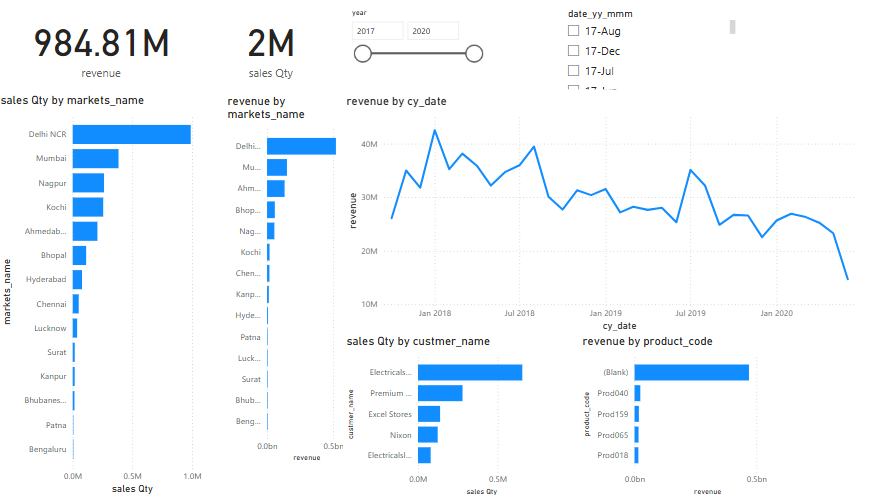

Layout of this report page (visuals, bound fields, positions):
{"tool":"powerbi","page":{"name":"Page 1","canvas":[1280,720],"ordinal":0},"visuals":[{"type":"card","fields":{"Values":["BaseMeasure (2).revenue"]},"box":[0,0,300,137.1],"z":0},{"type":"barChart","fields":{"Category":["sales markets.markets_name"],"Y":["BaseMeasure (2).sales Qty"]},"box":[0,137.1,300,582.9],"z":1000},{"type":"card","fields":{"Values":["BaseMeasure (2).sales Qty"]},"box":[262.9,0,261.4,137.1],"z":2000},{"type":"slicer","fields":{"Values":["sales date.date_yy_mmm"]},"box":[809.3,8.6,259.2,128.2],"z":3000},{"type":"barChart","fields":{"Category":["sales markets.markets_name"],"Y":["BaseMeasure (2).revenue"]},"box":[327.6,137.7,196.5,534.2],"z":4000},{"type":"slicer","fields":{"Values":["sales date.year"]},"box":[498.9,10.1,210,141.1],"z":5000},{"type":"barChart","fields":{"Category":["sales customers.custmer_name"],"Y":["BaseMeasure (2).sales Qty"]},"box":[498.9,483.8,310.8,236.9],"z":6000},{"type":"barChart","fields":{"Category":["sales products.product_code"],"Y":["BaseMeasure (2).revenue"]},"box":[838.2,483.8,310.8,236.9],"z":7000},{"type":"lineChart","fields":{"Y":["BaseMeasure (2).revenue"],"Category":["sales date.cy_date"]},"box":[498.9,137.7,755.9,346],"z":8000}]}

Visuals, with their boxes in screenshot pixels (x1, y1, x2, y2), scaled from the page's 1280x720 canvas onto the 880x498 screenshot:
card - BaseMeasure (2).revenue: [0, 0, 206, 95]
barChart - sales markets.markets_name x BaseMeasure (2).sales Qty: [0, 95, 206, 497]
card - BaseMeasure (2).sales Qty: [181, 0, 360, 95]
slicer - sales date.date_yy_mmm: [556, 6, 735, 95]
barChart - sales markets.markets_name x BaseMeasure (2).revenue: [225, 95, 360, 465]
slicer - sales date.year: [343, 7, 487, 105]
barChart - sales customers.custmer_name x BaseMeasure (2).sales Qty: [343, 335, 557, 497]
barChart - sales products.product_code x BaseMeasure (2).revenue: [576, 335, 790, 497]
lineChart - BaseMeasure (2).revenue x sales date.cy_date: [343, 95, 863, 335]
